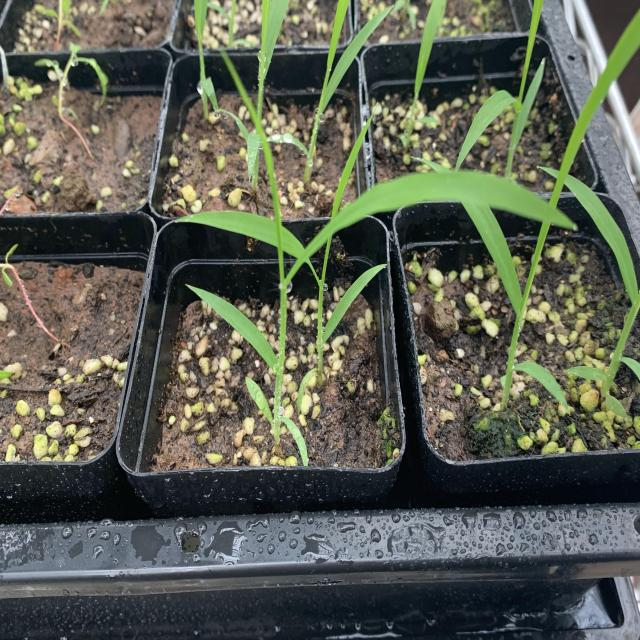crabgrass: (188, 74, 362, 427), (449, 42, 615, 411)
